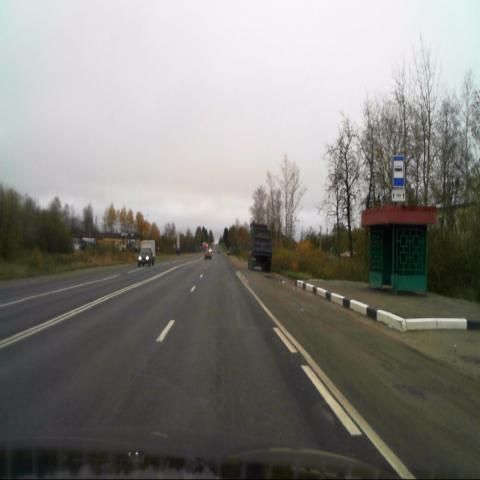5_16: (393, 156, 404, 185)
8_2_1: (392, 189, 405, 201)
